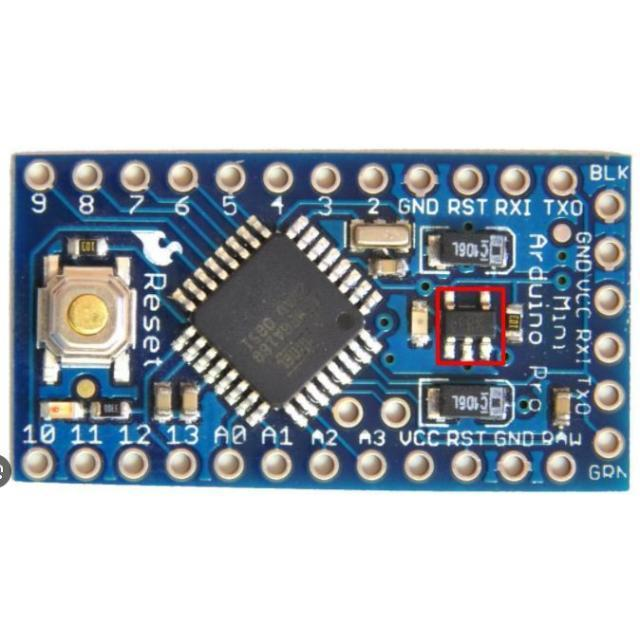Arduino-ProMini: (12, 152, 632, 491)
